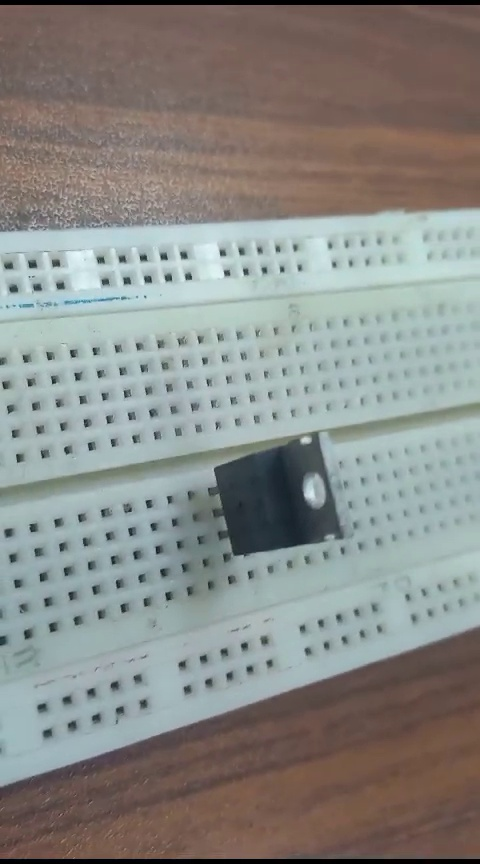voltage regulator: (192, 439, 349, 575)
